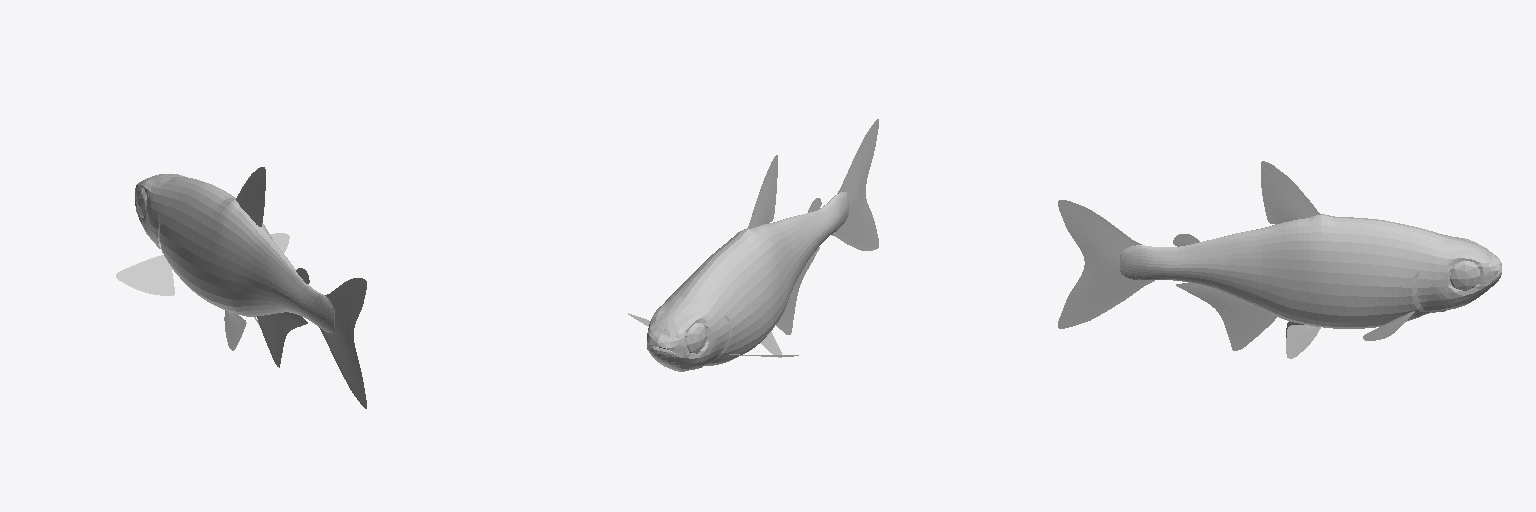
Rendered from fish.obj.
3 renders of one model, left to right at view 1: azimuth 30°, elevation 25°; view 2: azimuth 150°, elevation 25°; view 3: azimuth 270°, elevation 25°, orthographic.
Visible parts, largest first — view 1: NeonTetra0; view 2: NeonTetra0; view 3: NeonTetra0.
Part boxes in pixels (x1,y1,x2,y2): NeonTetra0: (116,167,366,408); NeonTetra0: (628,119,878,371); NeonTetra0: (1058,161,1501,358).
Bounding box in the file's own units: 0.1798 × 0.1885 × 0.4003.